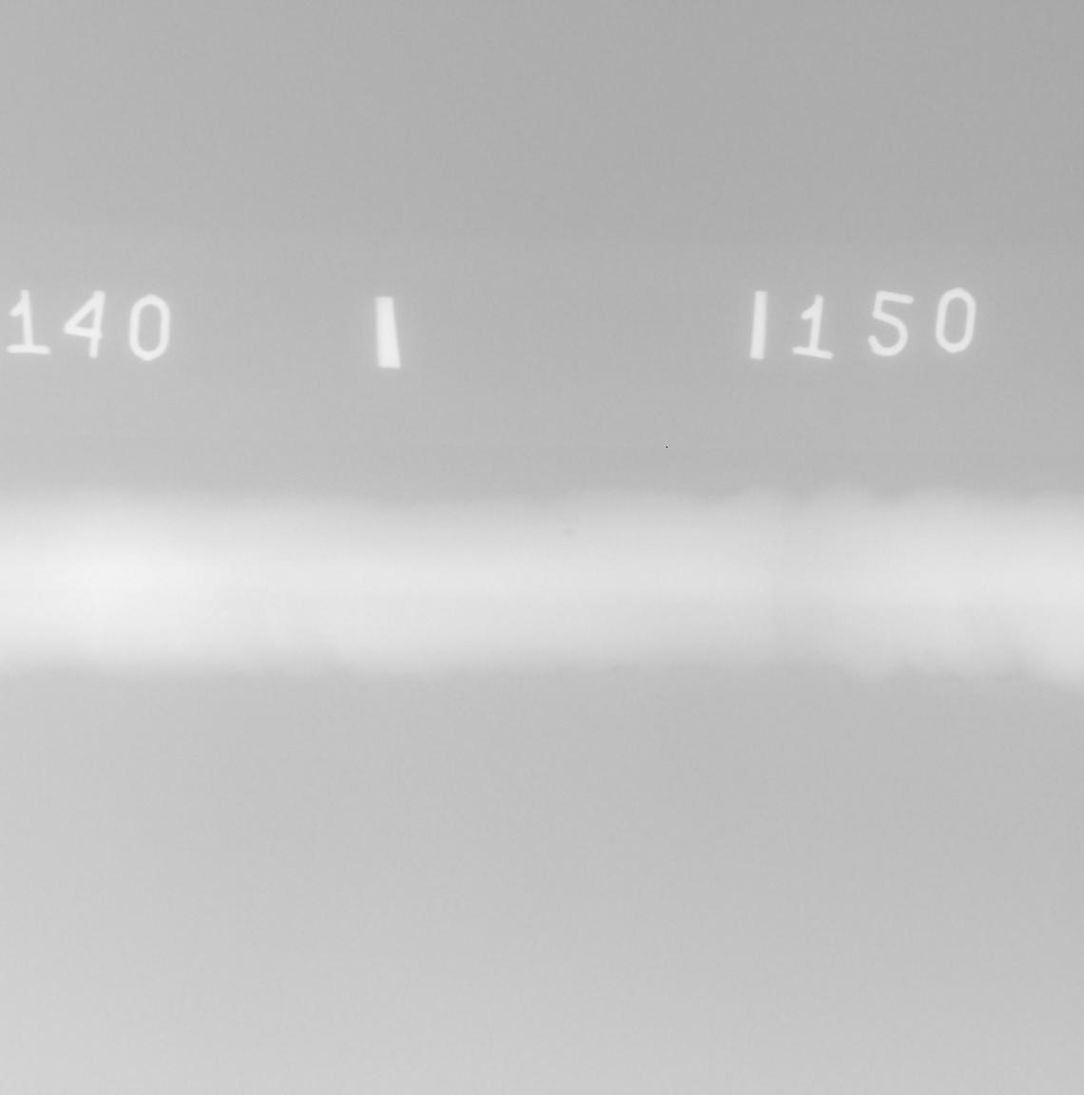Pore/Porosity: (563, 528, 573, 537), (803, 650, 817, 656), (573, 515, 579, 520), (568, 518, 571, 523), (560, 519, 564, 521)
